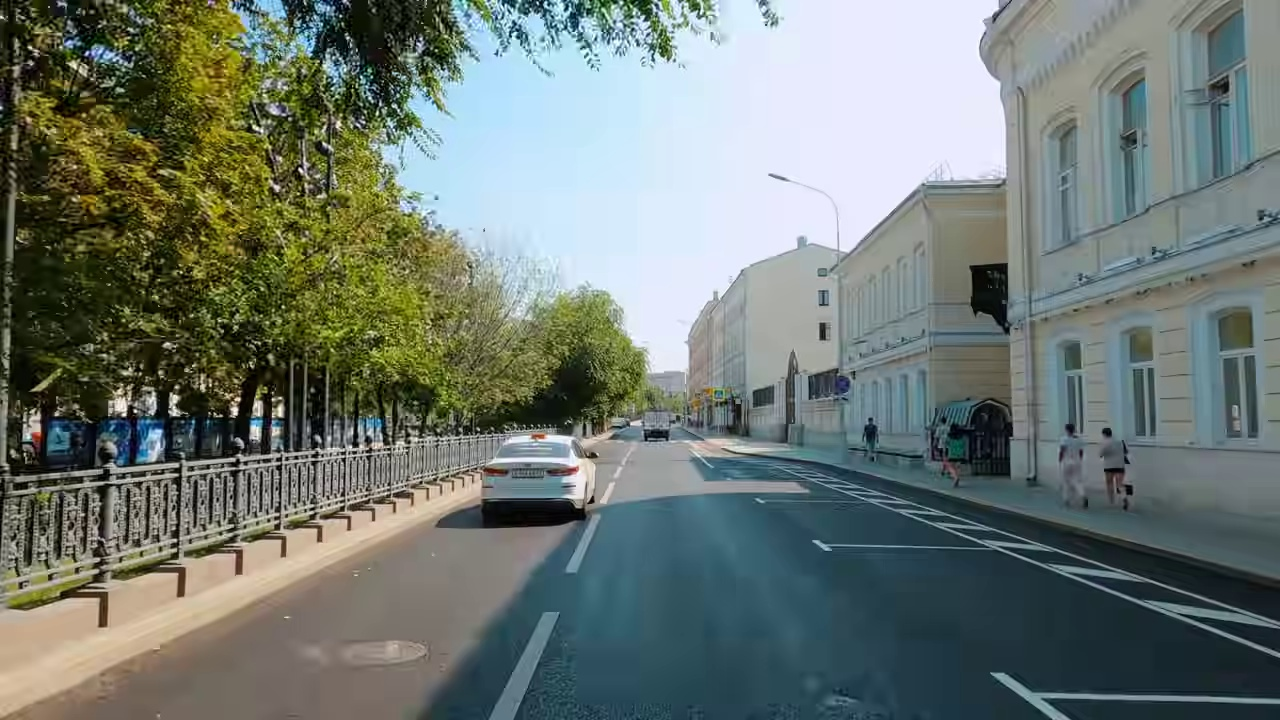apagada: (766, 168, 790, 188)
